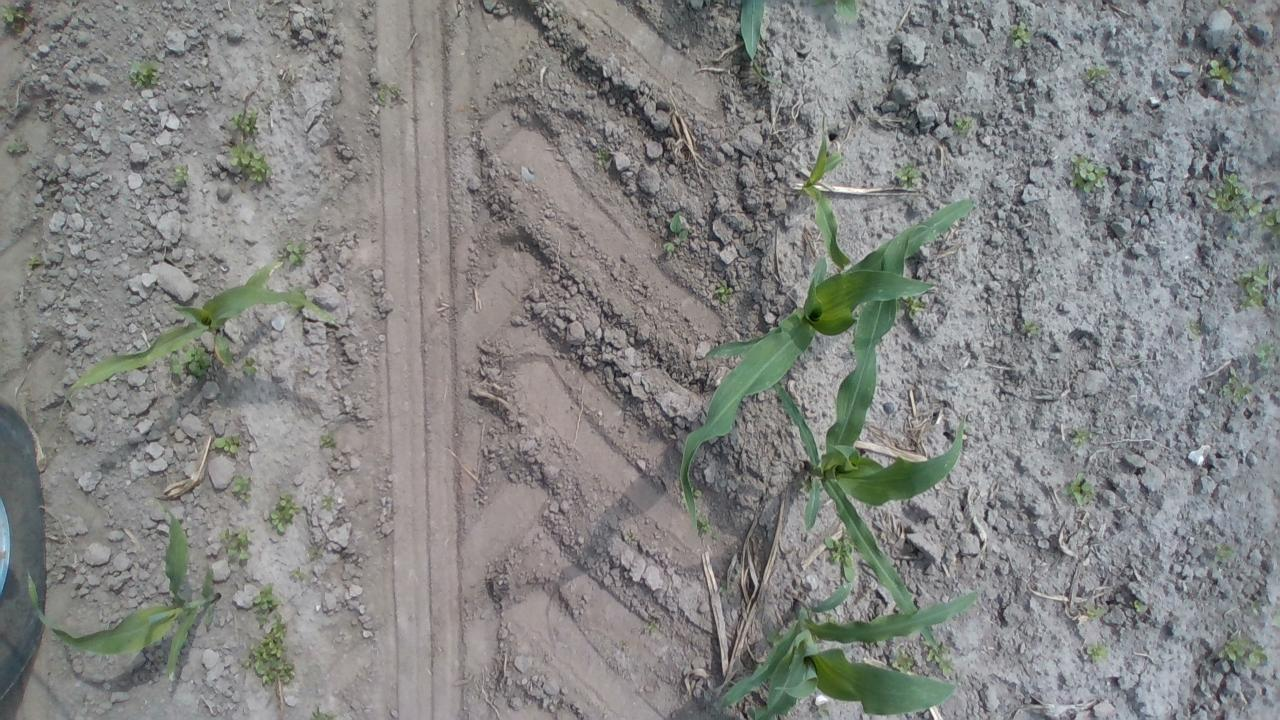Maize: (680, 198, 975, 528), (770, 224, 964, 653), (58, 260, 344, 418), (26, 498, 222, 682), (721, 584, 980, 720), (800, 112, 851, 270), (739, 0, 782, 86)
Weeds: (238, 608, 294, 686), (1210, 170, 1264, 222), (1232, 260, 1270, 314), (229, 140, 275, 182), (824, 530, 858, 584), (1216, 630, 1266, 666), (1068, 151, 1110, 193), (169, 342, 212, 378), (220, 524, 256, 566), (270, 490, 304, 533), (250, 578, 276, 630), (922, 639, 956, 678), (1220, 366, 1252, 406), (1057, 472, 1094, 504), (128, 57, 160, 89), (1, 5, 34, 34), (810, 0, 860, 19), (279, 238, 310, 266), (372, 82, 404, 108), (228, 106, 258, 133), (1253, 340, 1278, 371), (212, 432, 244, 455), (894, 162, 920, 190), (232, 473, 254, 506), (1011, 20, 1036, 48), (1212, 540, 1236, 567), (1258, 207, 1280, 236), (1208, 60, 1233, 85), (892, 648, 916, 673), (669, 212, 690, 240), (1085, 641, 1111, 663), (317, 428, 340, 451), (1020, 317, 1044, 338), (638, 616, 662, 636), (714, 280, 734, 304), (1086, 63, 1108, 84), (1084, 602, 1105, 624), (310, 705, 340, 720), (172, 162, 192, 183), (906, 300, 928, 318), (954, 114, 973, 134), (1072, 426, 1092, 445), (306, 539, 324, 560), (4, 140, 30, 154), (243, 355, 258, 378), (1186, 319, 1201, 341), (766, 626, 782, 646), (596, 146, 610, 166), (696, 515, 709, 535), (290, 564, 306, 580), (794, 478, 812, 492), (26, 255, 44, 268), (1251, 598, 1263, 617), (718, 579, 730, 597), (818, 704, 832, 719), (1269, 609, 1280, 627), (320, 494, 334, 508), (1128, 600, 1144, 612), (825, 612, 837, 624), (662, 242, 676, 252), (620, 642, 631, 654), (622, 534, 635, 544), (690, 486, 701, 497), (1224, 234, 1236, 241), (711, 534, 721, 540)
